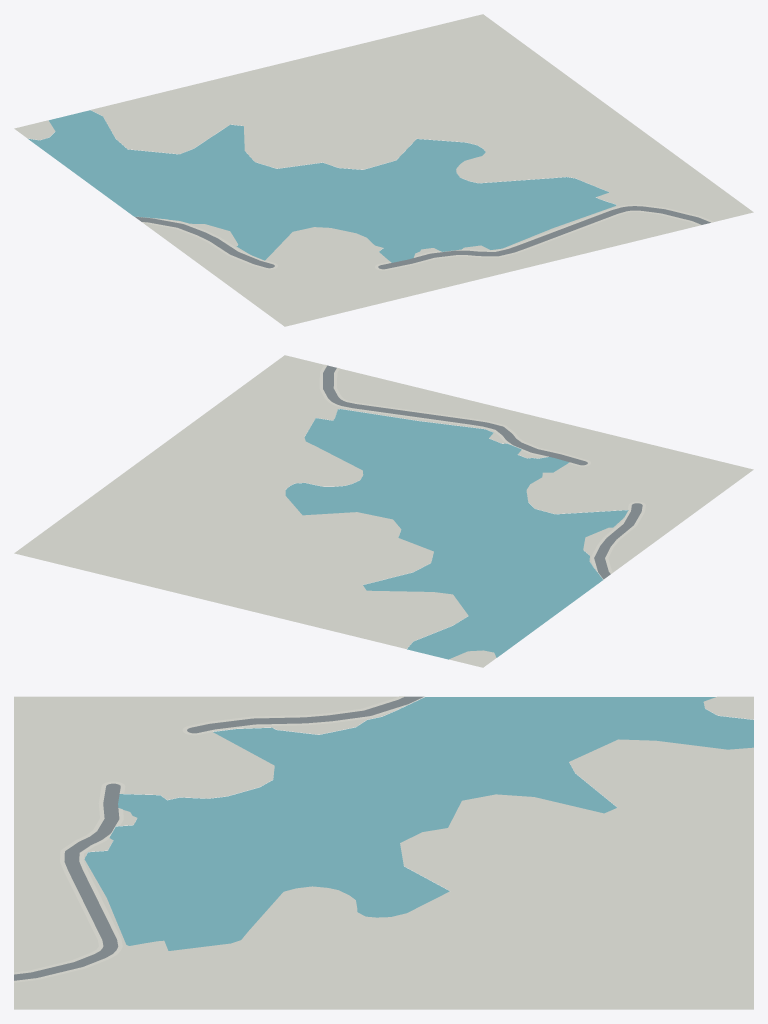
The picture shows the model from 3 angles, top to bottom: view 1: azimuth 30°, elevation 25°; view 2: azimuth 150°, elevation 25°; view 3: azimuth 270°, elevation 25°; orthographic projection. The views are drawn at different scales.
Parts seen in each view (by area): view 1: city; view 2: city; view 3: city.
Boxes of the visible parts, x1=… form: city: x1=14, y1=14, x2=753, y2=326; city: x1=14, y1=355, x2=753, y2=667; city: x1=14, y1=696, x2=753, y2=1009.
Bounding box in the file's own units: 500 × 0.4 × 500.
